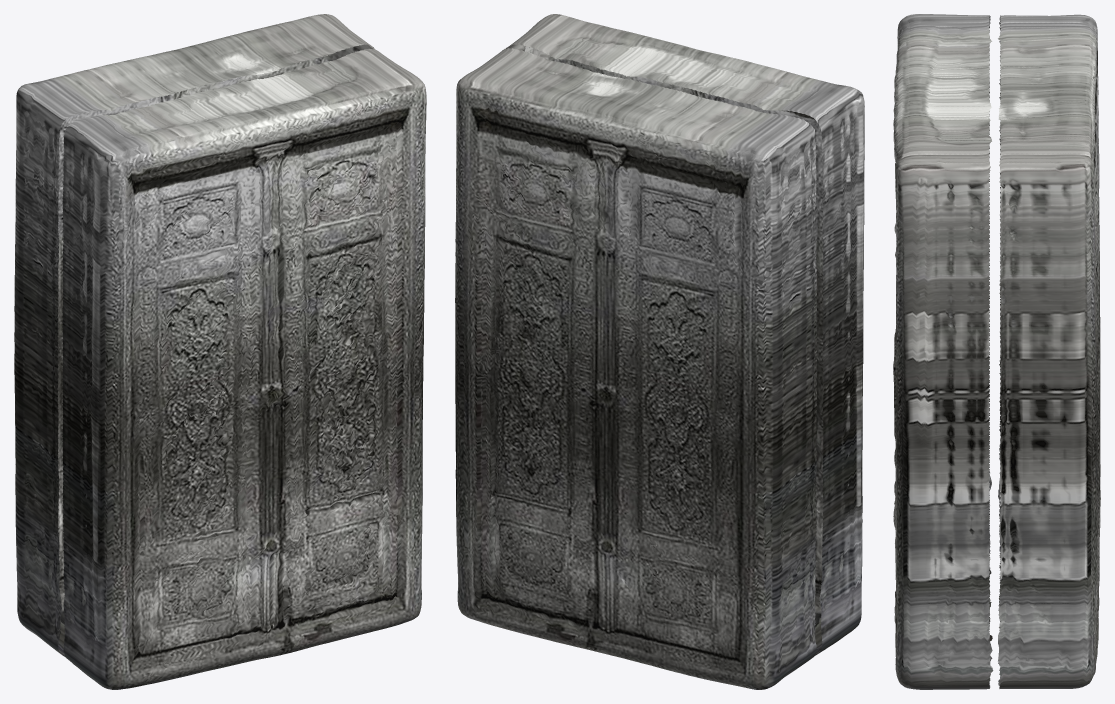
The model's file is kfl-2287.glb.
3 views of the same model, side by side, from view 1: azimuth 30°, elevation 25°; view 2: azimuth 150°, elevation 25°; view 3: azimuth 270°, elevation 25° (orthographic).
Parts seen in each view (by area): view 1: geometry_0; view 2: geometry_0; view 3: geometry_0.
Boxes of the visible parts, x1,y1,x2,y2 form: geometry_0: [14, 14, 426, 689]; geometry_0: [455, 14, 864, 689]; geometry_0: [893, 14, 1100, 689].
Bounding box in the file's own units: 0.6248 × 0.9992 × 0.3506.
1 material, 1 textured.
